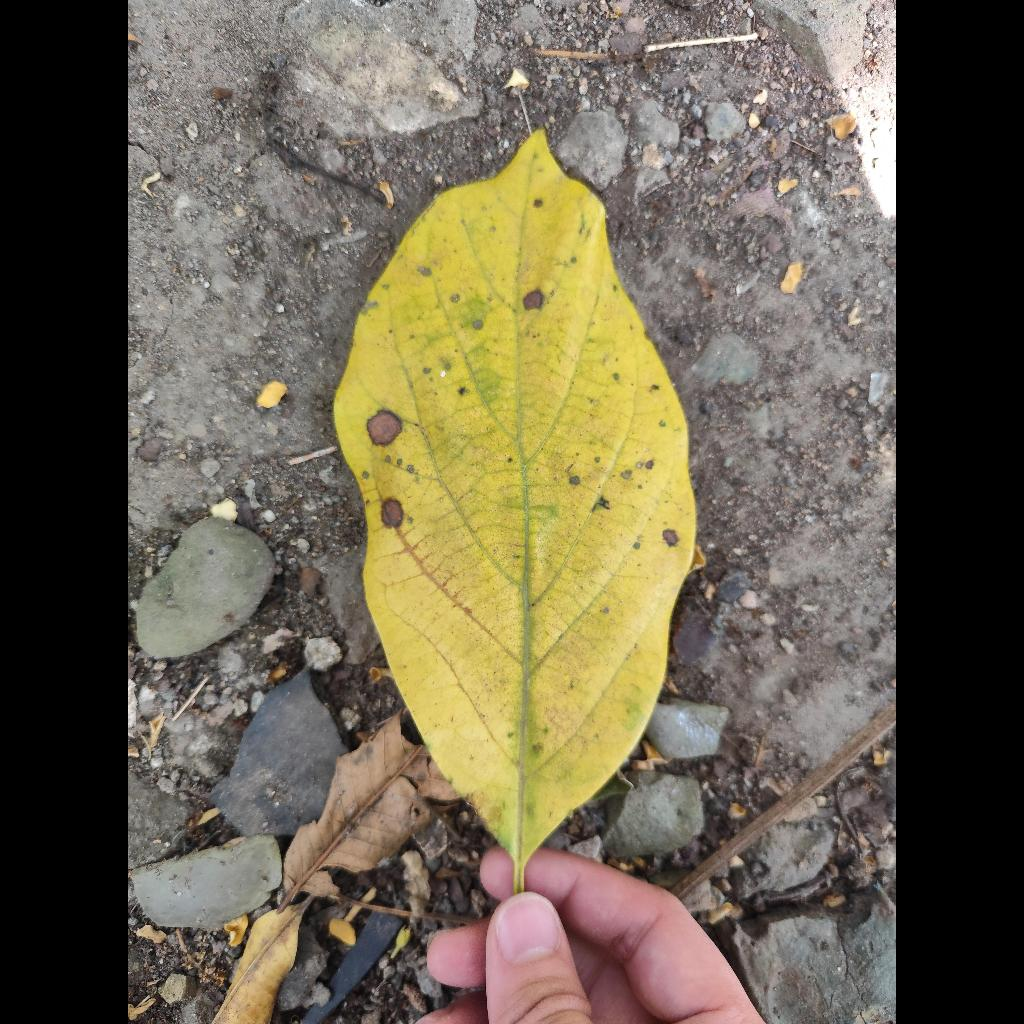nutrient_deficiency: (335, 131, 695, 888)
